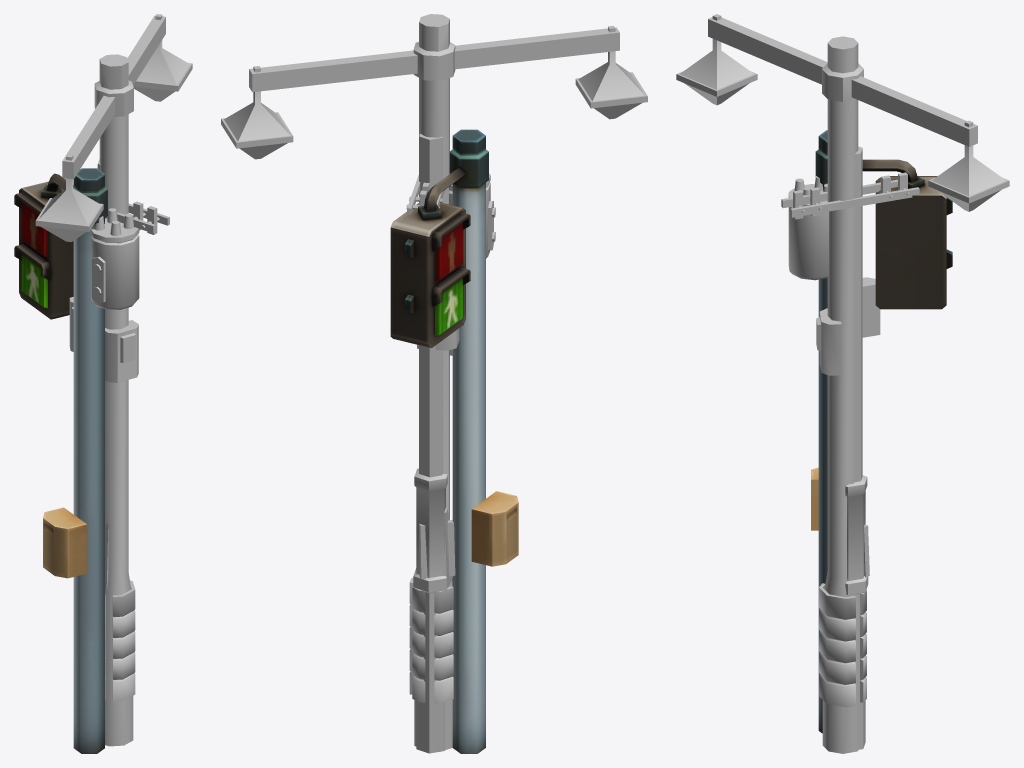
File: StreetLamp.fbx
3 renders of one model, left to right at view 1: azimuth 30°, elevation 25°; view 2: azimuth 150°, elevation 25°; view 3: azimuth 270°, elevation 25°, orthographic. The views are drawn at different scales.
Visible parts, largest first — view 1: sb_city_01_prop_42, sb_city_01_prop_47, sb_city_01_prop_41; view 2: sb_city_01_prop_42, sb_city_01_prop_47, sb_city_01_prop_41; view 3: sb_city_01_prop_47, sb_city_01_prop_41, sb_city_01_prop_42.
Part boxes in pixels (x1=…): sb_city_01_prop_42: x1=14, y1=168, x2=107, y2=753; sb_city_01_prop_47: x1=35, y1=14, x2=192, y2=746; sb_city_01_prop_41: x1=57, y1=159, x2=169, y2=589; sb_city_01_prop_42: x1=390, y1=129, x2=518, y2=753; sb_city_01_prop_47: x1=221, y1=14, x2=647, y2=751; sb_city_01_prop_41: x1=406, y1=133, x2=495, y2=753; sb_city_01_prop_47: x1=676, y1=14, x2=1009, y2=753; sb_city_01_prop_41: x1=781, y1=146, x2=919, y2=749; sb_city_01_prop_42: x1=811, y1=130, x2=952, y2=733.
Size of the model in its own units: 1.41 by 3.27 by 1.41.
